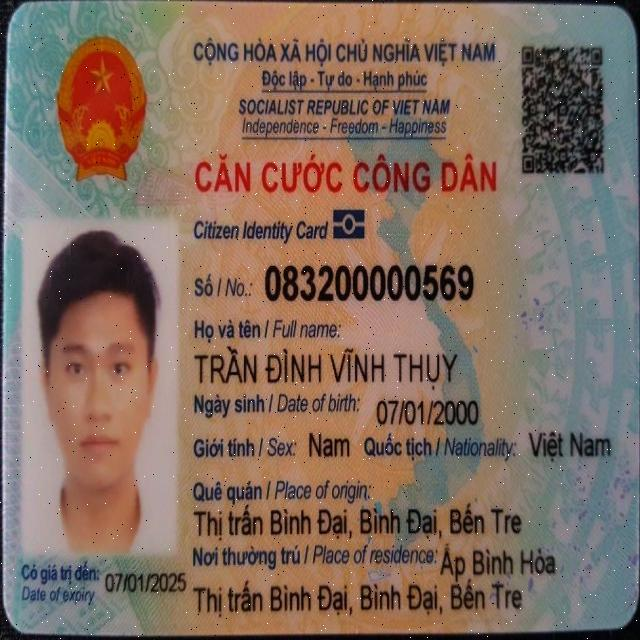current_place: (193, 577, 525, 617), (432, 539, 563, 578)
dob: (374, 392, 480, 431)
expire_date: (104, 568, 186, 595)
gender: (305, 429, 350, 464)
id: (262, 259, 476, 303)
name: (188, 343, 462, 393)
nationality: (527, 426, 613, 464)
origin_place: (191, 500, 524, 538)
qr: (518, 32, 611, 185)
